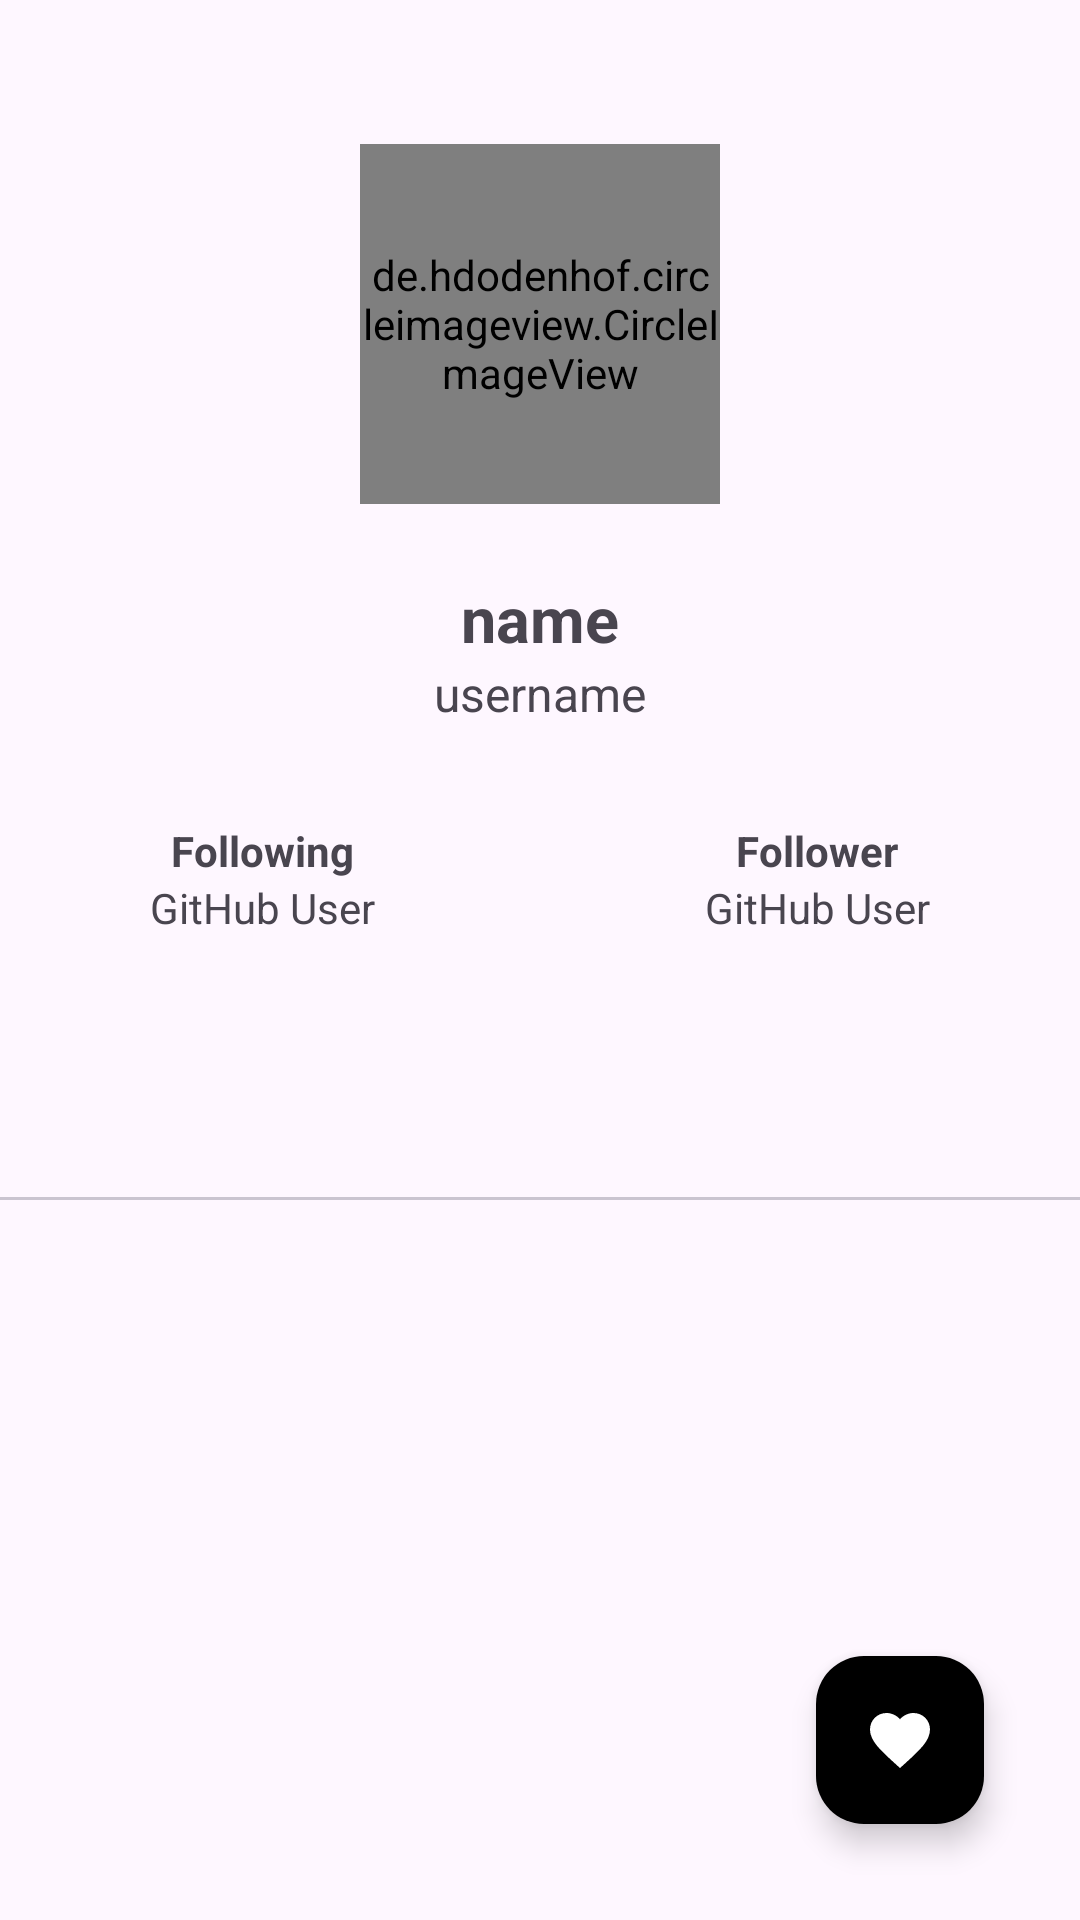

Icon bounding boxes for this 1080 x 1920 phone screenshot, format [x1, y1, x2, y2]:
favorite: [816, 1656, 984, 1824]
